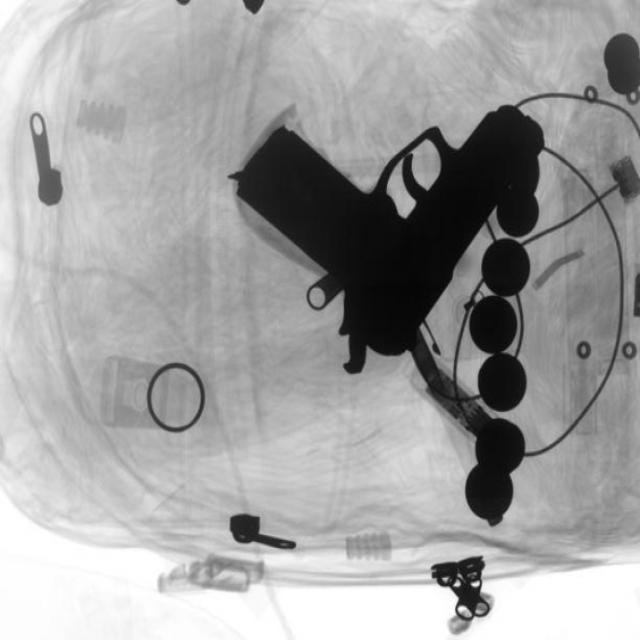GUN: (243, 100, 538, 362)
